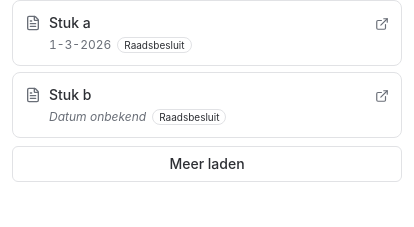
BeleidDocumentenLijst › shows title/date/soort, safe external link, 'Datum onbekend' and loads more with the cursor
This screenshot has width=414, height=227.
Expected: the text "Datum onbekend" is shown, [49,109,146,125]
What coordinates should you click on to do the following:
click the button "Meer laden"
I would click on:
 (207, 164)
Its box is [12,146,402,182].
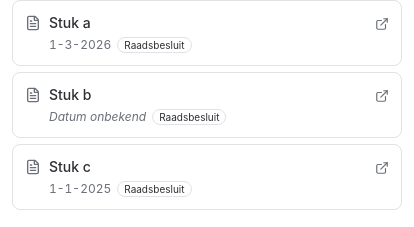
Now the text "Stuk c" is shown, box [49,158,91,175]
Now the button "Meer laden" is gone
